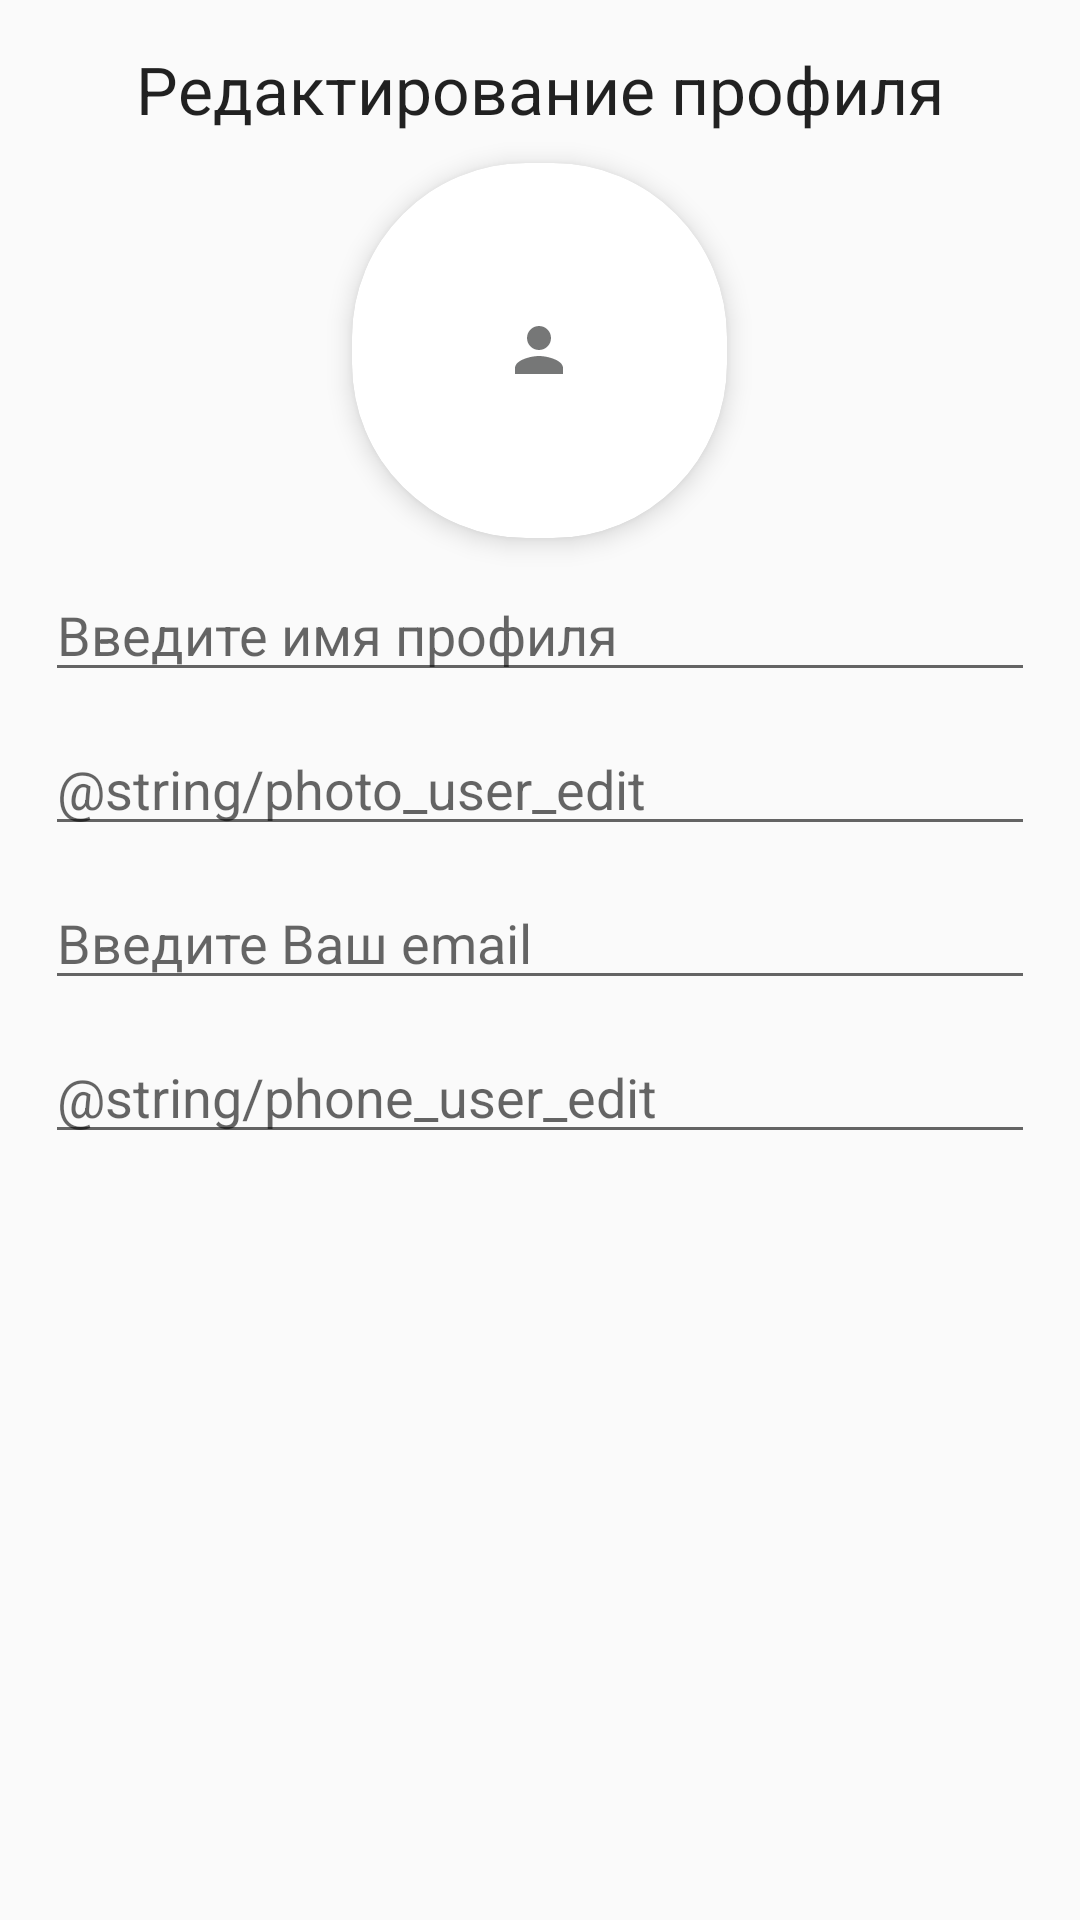

Screen size 1080px×1920px. Icon name, then its box in pixels as (x1, y1, x2, y2):
person: (515, 326, 563, 374)
